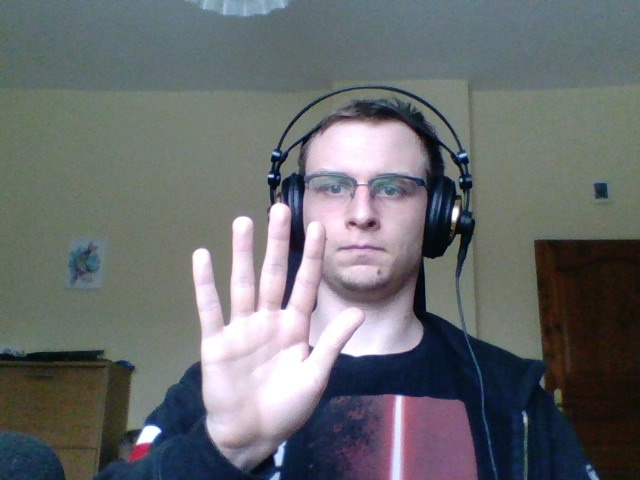hello: (190, 199, 365, 472)
